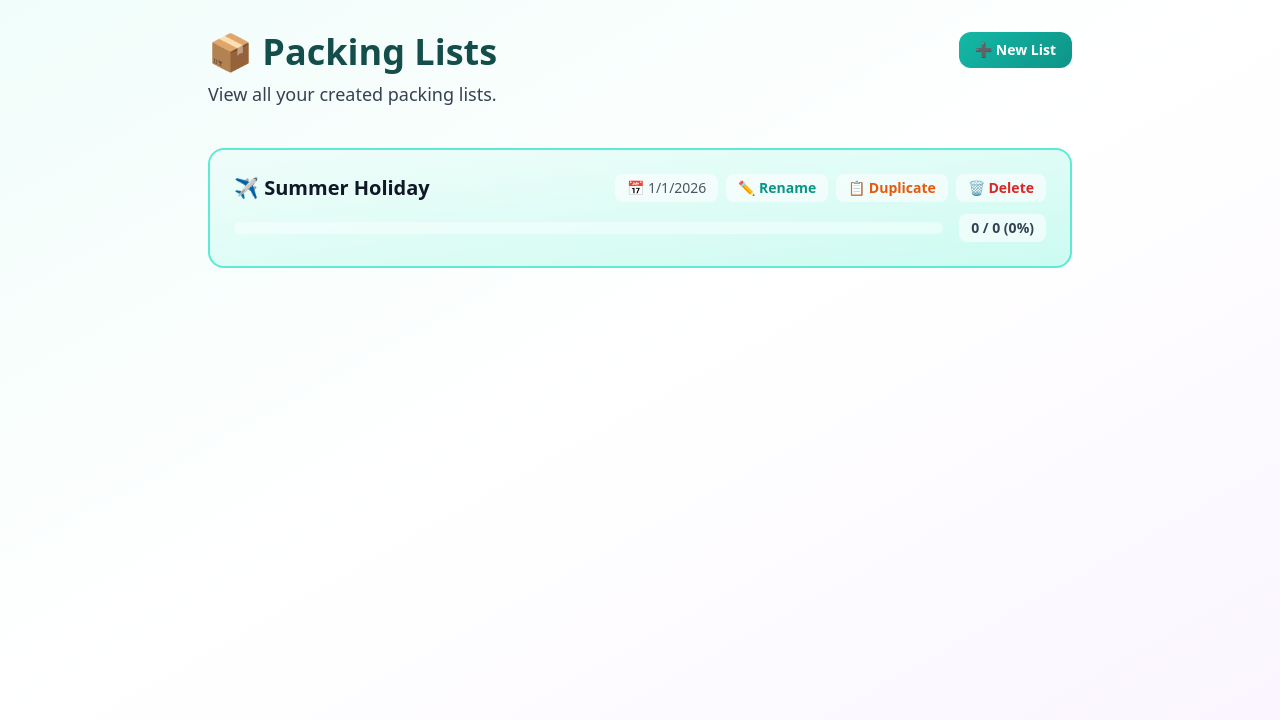
it: PackingLists rename › opens a rename modal pre-filled with the current list name when Rename is clicked
Expected: the heading "✈️ Summer Holiday" is shown, [234,174,430,202]
Click the button "✏️ Rename".
click(777, 188)  # box [726,174,828,202]
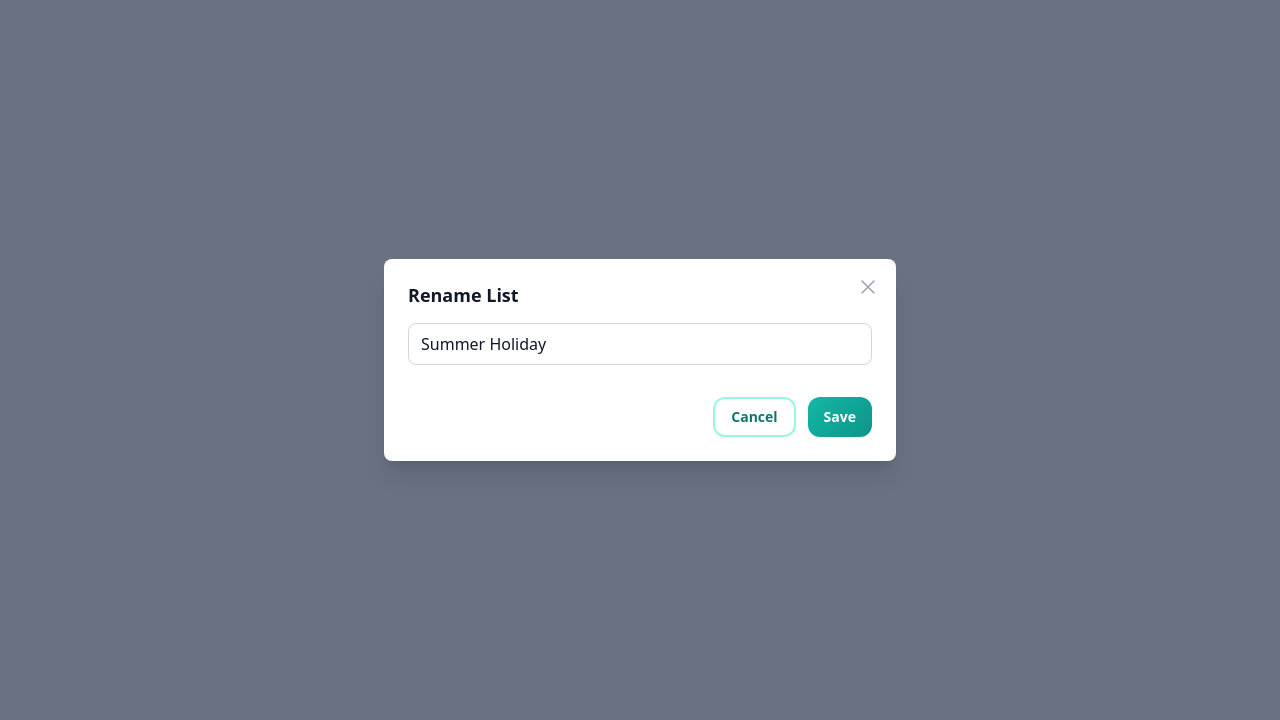
Expected: the field holds "Summer Holiday", [408,323,872,365]
